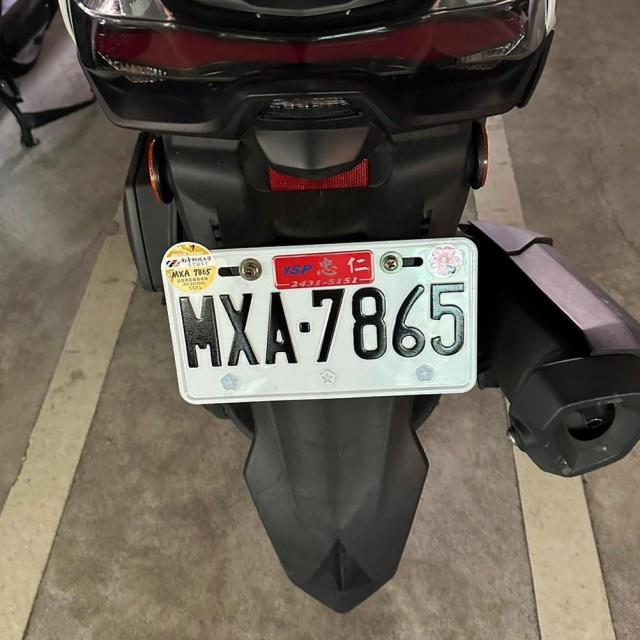W: (157, 236, 486, 406)
